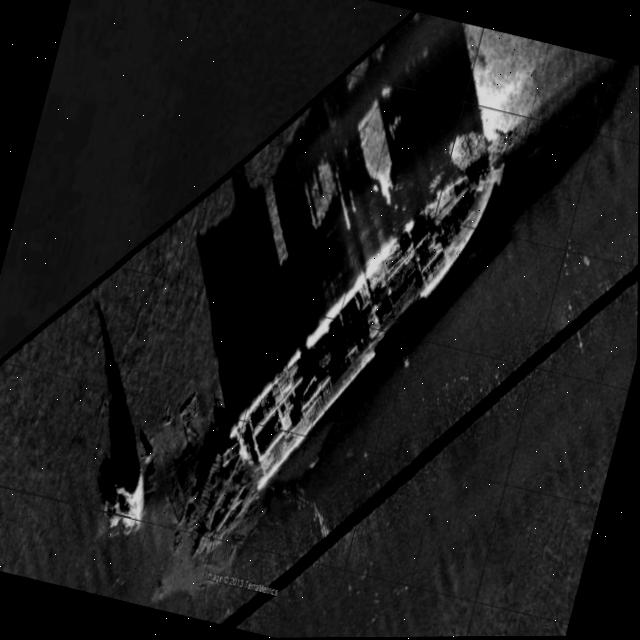shipwreck: (201, 99, 511, 572)
